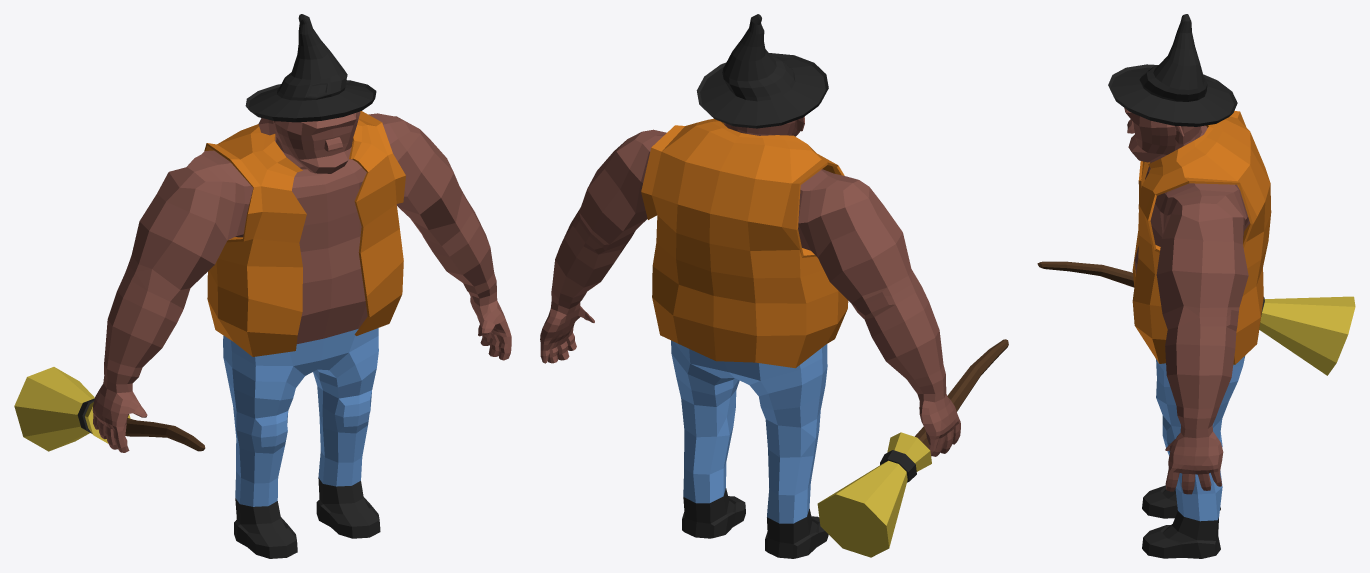
The model's file is Garryfbx.fbx.
The picture shows the model from 3 angles, left to right: view 1: azimuth 30°, elevation 25°; view 2: azimuth 150°, elevation 25°; view 3: azimuth 270°, elevation 25°; orthographic projection.
Parts seen in each view (by area): view 1: MagicalWaistCoatMesh; view 2: MagicalWaistCoatMesh; view 3: MagicalWaistCoatMesh.
Part boxes in pixels (x1=…): MagicalWaistCoatMesh: x1=14, y1=14, x2=511, y2=558; MagicalWaistCoatMesh: x1=540, y1=14, x2=1008, y2=558; MagicalWaistCoatMesh: x1=1037, y1=14, x2=1355, y2=558.
Size of the model in its own units: 175 by 211 by 118.
